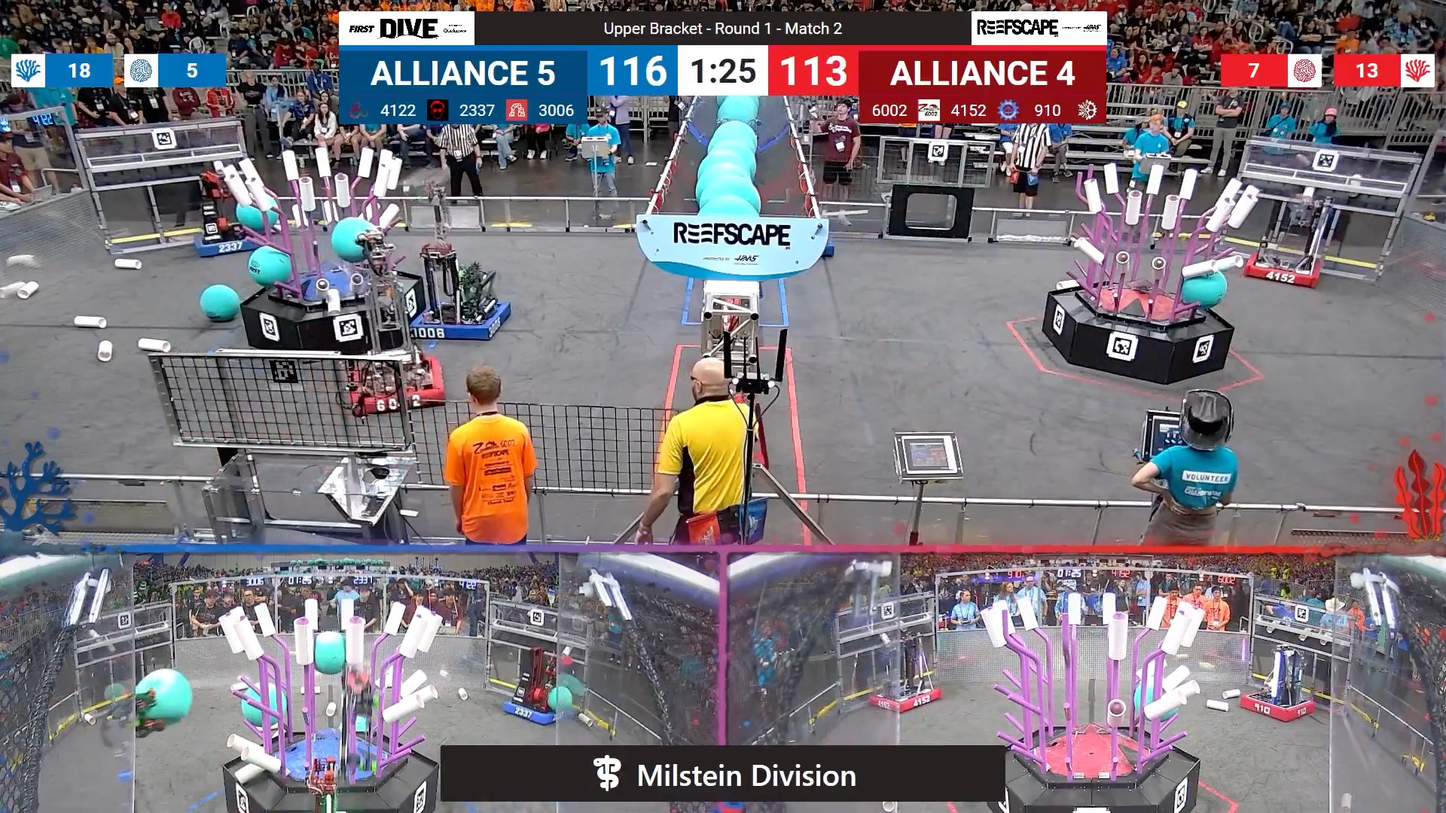bumpers: (335, 349, 447, 417), (407, 297, 517, 346), (1234, 249, 1333, 291), (185, 224, 273, 261), (1231, 690, 1320, 725), (865, 683, 947, 714), (497, 694, 569, 728)
